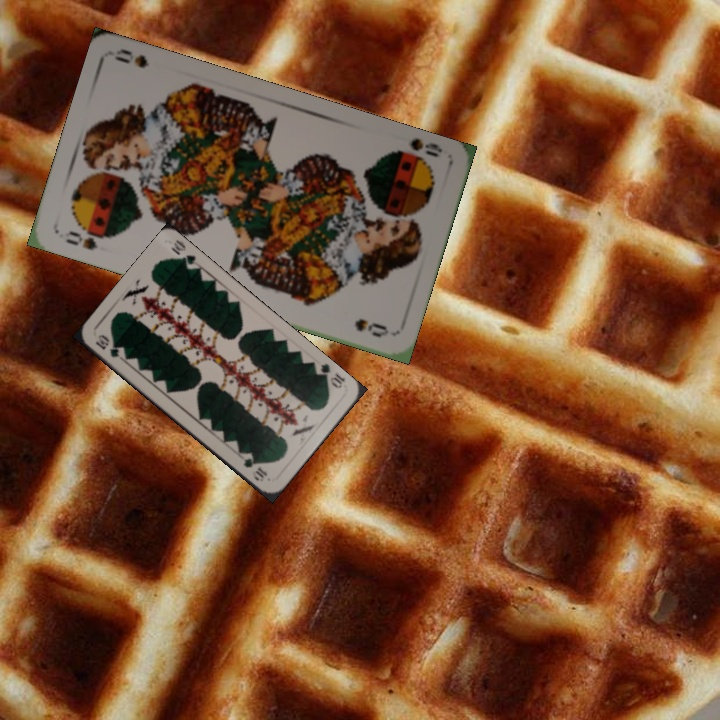G10: (91, 330, 128, 363), (311, 360, 347, 391)
SO: (387, 134, 445, 166), (61, 224, 114, 253)
